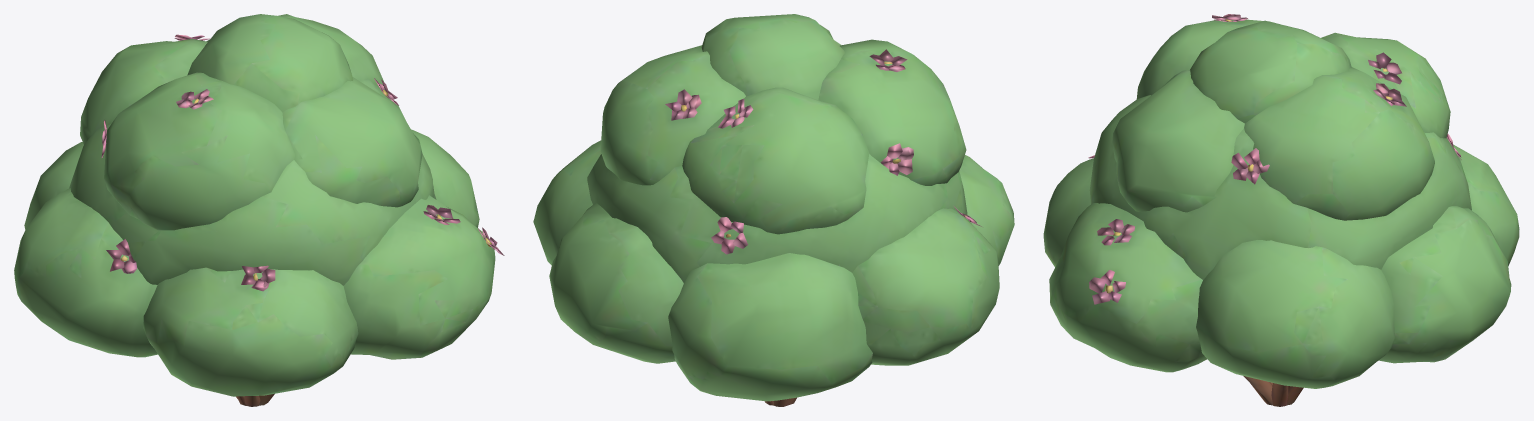
The model's file is bush.glb.
3 views of the same model, side by side, from view 1: azimuth 30°, elevation 25°; view 2: azimuth 150°, elevation 25°; view 3: azimuth 270°, elevation 25° (orthographic).
Visible parts, largest first — view 1: lod0; view 2: lod0; view 3: lod0.
Part boxes in pixels (<box>): lod0: <box>14,14,504,406</box>; lod0: <box>533,14,1014,406</box>; lod0: <box>1043,14,1519,406</box>.
Size of what is drawn, in the model's own units: 1.33 by 1.09 by 1.26.
1 material, 1 textured.
